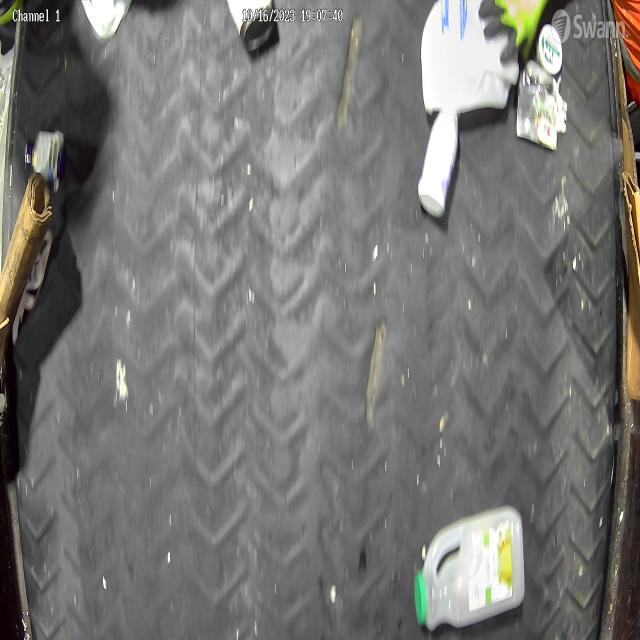can: (516, 59, 557, 152), (227, 0, 274, 54)
milk_jug: (413, 501, 528, 636), (419, 0, 519, 116)
